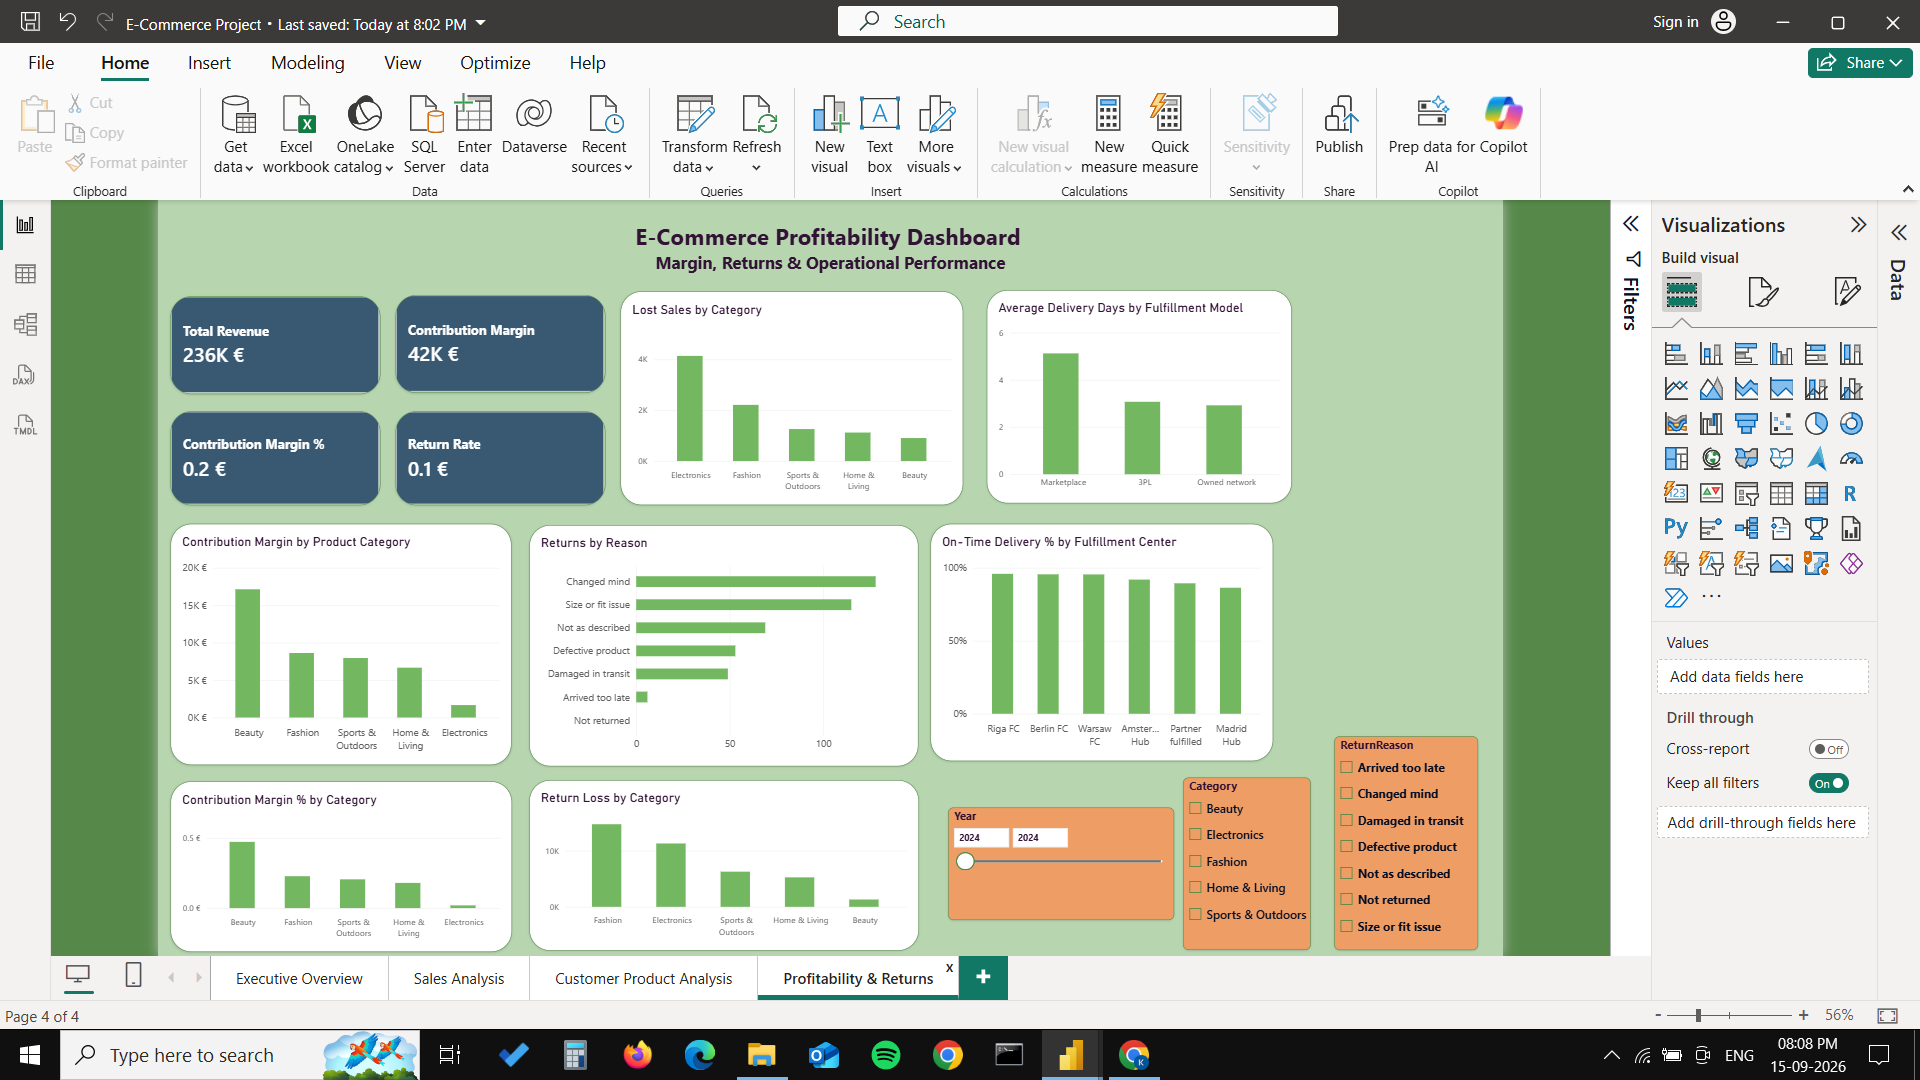

Layout of this report page (visuals, bound fields, positions):
{"tool":"powerbi","page":{"name":"Profitability & Returns","canvas":[1921,1080],"ordinal":3},"visuals":[{"type":"textbox","box":[681.5,29.8,556.7,106.1],"z":0},{"type":"cardVisual","fields":{"Data":["tblFactOrderLine.Total Revenue"]},"box":[17.9,137.5,299.8,139.6],"z":1000},{"type":"cardVisual","fields":{"Data":["tblFactOrderLine.Contribution Margin"]},"box":[339.3,135.7,299.8,139.6],"z":2000},{"type":"cardVisual","fields":{"Data":["tblFactOrderLine.Contribution Margin %"]},"box":[17.9,301.8,299.8,134.1],"z":3000},{"type":"cardVisual","fields":{"Data":["tblFactOrderLine.Return Rate"]},"box":[339.3,301.8,299.8,134.1],"z":4000},{"type":"clusteredColumnChart","title":"Contribution Margin by Product Category","fields":{"Category":["tblDimProduct.Category"],"Y":["tblFactOrderLine.Contribution Margin"]},"box":[17.9,462.5,487.5,344.6],"z":5000},{"type":"clusteredColumnChart","title":"Contribution Margin % by Category","fields":{"Category":["tblDimProduct.Category"],"Y":["tblFactOrderLine.Contribution Margin %"]},"box":[17.9,830.4,488,244],"z":6000},{"type":"clusteredBarChart","title":"Returns by Reason","fields":{"Category":["tblDimReturnReason.ReturnReason"],"Y":["tblFactOrderLine.Total Returns"]},"box":[530.4,464.3,556.1,344.4],"z":7000},{"type":"clusteredColumnChart","title":"Return Loss by Category","fields":{"Category":["tblDimProduct.Category"],"Y":["tblFactOrderLine.Total Return Loss"]},"box":[530.4,828.6,557,244],"z":8000},{"type":"clusteredColumnChart","title":"Lost Sales by Category","fields":{"Category":["tblDimProduct.Category"],"Y":["tblFactOrderLine.Lost Sales"]},"box":[660.7,130.4,489.7,305.4],"z":9000},{"type":"clusteredColumnChart","title":"Average Delivery Days by Fulfillment Model","fields":{"Category":["tblDimFulfillment.FulfillmentModel"],"Y":["tblFactOrderLine.Average Delivery Days"]},"box":[1183.9,128.6,435.9,305],"z":10000},{"type":"clusteredColumnChart","title":"On-Time Delivery % by Fulfillment Center","fields":{"Category":["tblDimFulfillment.FulfillmentCenter"],"Y":["tblFactOrderLine.On Time Delivery %"]},"box":[1103.6,462.5,489.3,339.3],"z":11000},{"type":"slicer","fields":{"Values":["tblDimDate.Year"]},"box":[1128.6,867.9,323.2,160.7],"z":12000},{"type":"slicer","fields":{"Values":["tblDimProduct.Category"]},"box":[1464.3,825,182.1,246.4],"z":13000},{"type":"slicer","fields":{"Values":["tblDimReturnReason.ReturnReason"]},"box":[1680.4,766.1,205.4,305.4],"z":14000}]}

Visuals, with their boxes on the page's 1921x1080 design canvas (x1, y1, x2, y2). These are canvas units, not pixel positions in the 1920x1080 screenshot, which may show the page scaled, cropped or inside an application window:
textbox: (left=682, top=30, right=1238, bottom=136)
cardVisual - tblFactOrderLine.Total Revenue: (left=18, top=138, right=318, bottom=277)
cardVisual - tblFactOrderLine.Contribution Margin: (left=339, top=136, right=639, bottom=275)
cardVisual - tblFactOrderLine.Contribution Margin %: (left=18, top=302, right=318, bottom=436)
cardVisual - tblFactOrderLine.Return Rate: (left=339, top=302, right=639, bottom=436)
"Contribution Margin by Product Category" clusteredColumnChart: (left=18, top=462, right=505, bottom=807)
"Contribution Margin % by Category" clusteredColumnChart: (left=18, top=830, right=506, bottom=1074)
"Returns by Reason" clusteredBarChart: (left=530, top=464, right=1086, bottom=809)
"Return Loss by Category" clusteredColumnChart: (left=530, top=829, right=1087, bottom=1073)
"Lost Sales by Category" clusteredColumnChart: (left=661, top=130, right=1150, bottom=436)
"Average Delivery Days by Fulfillment Model" clusteredColumnChart: (left=1184, top=129, right=1620, bottom=434)
"On-Time Delivery % by Fulfillment Center" clusteredColumnChart: (left=1104, top=462, right=1593, bottom=802)
slicer - tblDimDate.Year: (left=1129, top=868, right=1452, bottom=1029)
slicer - tblDimProduct.Category: (left=1464, top=825, right=1646, bottom=1071)
slicer - tblDimReturnReason.ReturnReason: (left=1680, top=766, right=1886, bottom=1072)
